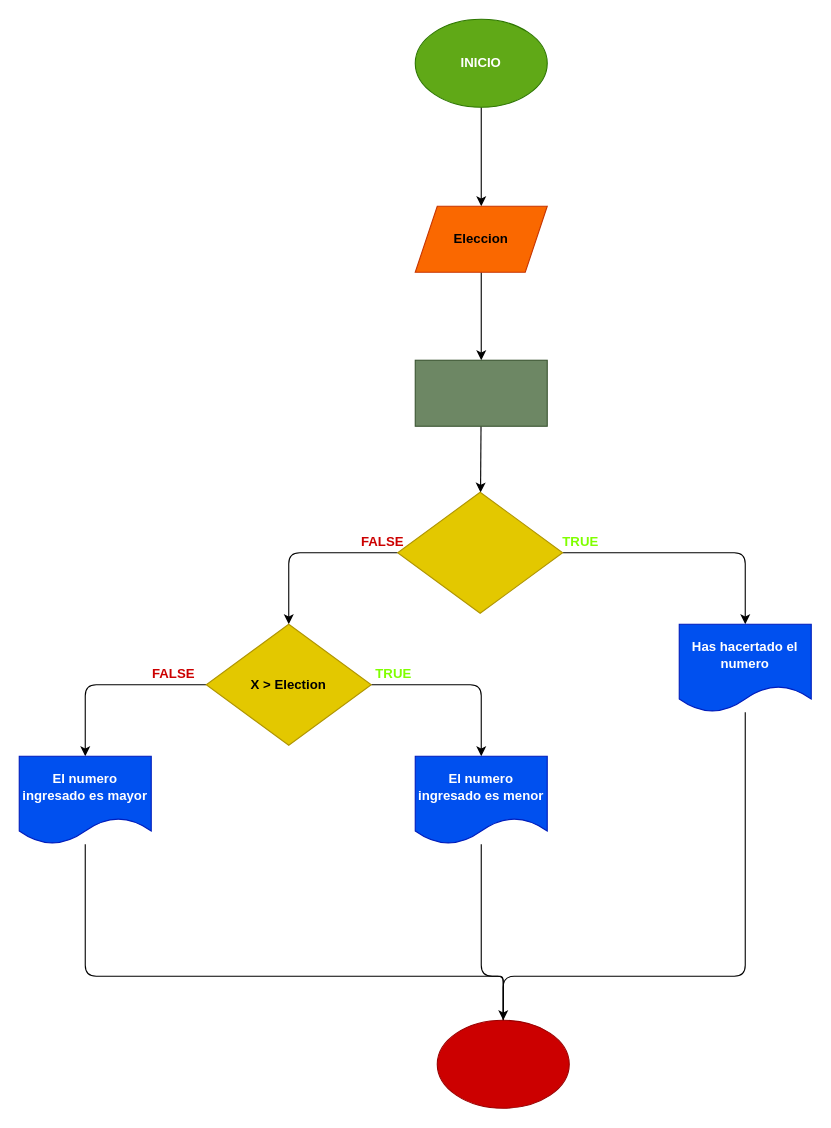
This 831x1128 diagram has some shape labels left out. Here are the shapes that lost their labels. From the top down, the centre of each, then its label:
[480,392]: x = radint(1, 30)
[480,552]: while Eleccion != x
[502,1063]: FIN
